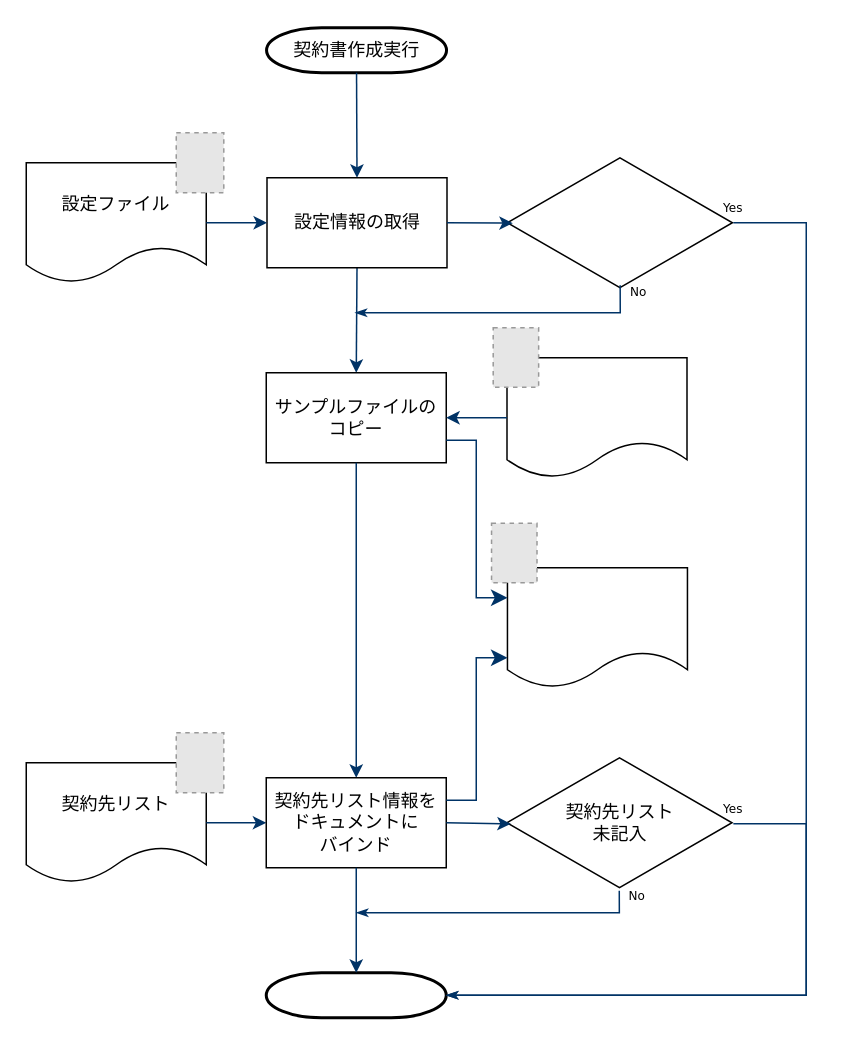
Image size: 843x1044. Some labels were removed from this diagram. Grey dashed boxes stand in for pictures. The shapes that lost their labels are listed below. From the top down, each one's box as (x1, y1, x2, y2) in pixels, then its label:
(506, 154, 732, 290): 設定ファイル 未記入
(506, 356, 687, 478): サンプルファイル
(506, 566, 687, 688): サンプルファイル （コピー）
(264, 970, 447, 1018): 終了
